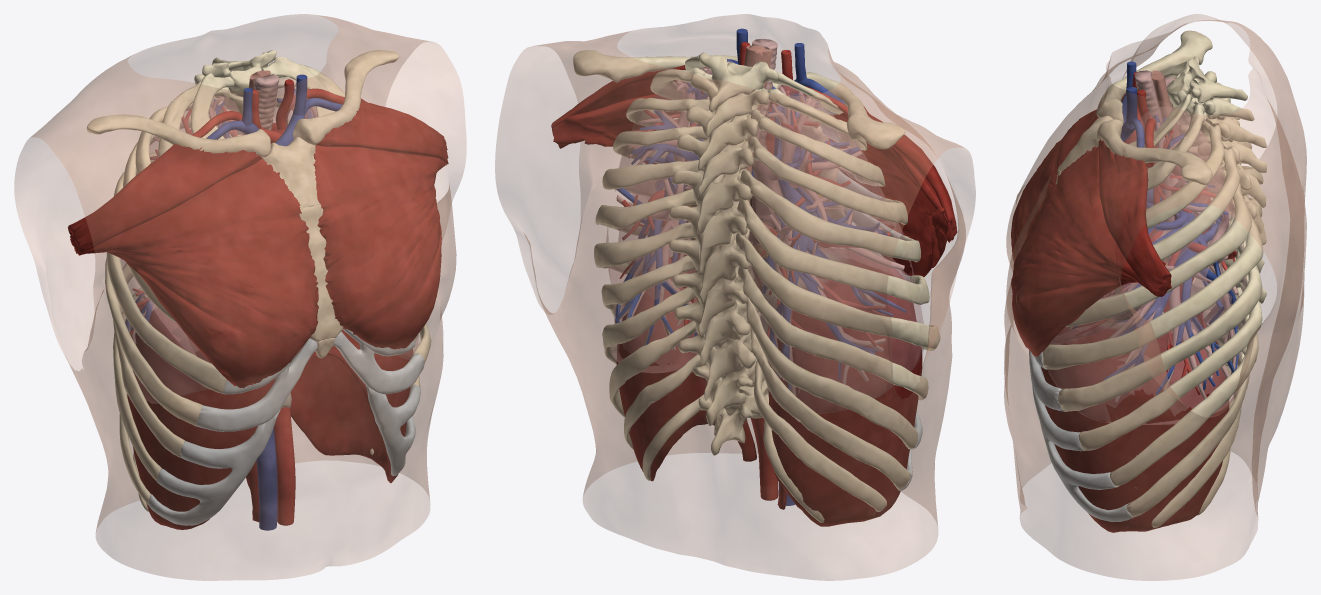
Rendered from cardiotwin_anatomy.glb.
3 renders of one model, left to right at view 1: azimuth 30°, elevation 25°; view 2: azimuth 150°, elevation 25°; view 3: azimuth 270°, elevation 25°, orthographic. The views are drawn at different scales.
Parts seen in each view (by area): view 1: Skin_Torso, Pectoralis_R, Pectoralis_L, Diaphragm, Ribs_R, CostalCartilage, Sternum, Lung_R, Clavicle_R, Clavicle_L, GreatVessel_Aorta, GreatVessel_SVC_BrachiocephalicVeins (+6 smaller); view 2: Skin_Torso, Ribs_R, Spine_Thoracic, Diaphragm, Lung_R, Ribs_L, Lung_L, Pectoralis_R, Trachea_Bronchi, GreatVessel_PulmonaryArtery, Pectoralis_L, Clavicle_L (+8 smaller); view 3: Skin_Torso, Ribs_L, Pectoralis_L, Diaphragm, Lung_L, Spine_Thoracic, CostalCartilage, Trachea_Bronchi, GreatVessel_PulmonaryArtery, Pectoralis_R, Clavicle_L, Clavicle_R (+6 smaller).
Part boxes in pixels (bbox=[...]): Skin_Torso: bbox=[14, 14, 466, 580]; Pectoralis_R: bbox=[67, 144, 318, 387]; Pectoralis_L: bbox=[313, 98, 448, 349]; Diaphragm: bbox=[127, 309, 412, 529]; Ribs_R: bbox=[105, 73, 234, 511]; CostalCartilage: bbox=[148, 329, 424, 525]; Sternum: bbox=[262, 137, 343, 358]; Lung_R: bbox=[119, 95, 244, 403]; Clavicle_R: bbox=[86, 114, 270, 157]; Clavicle_L: bbox=[293, 50, 399, 145]; GreatVessel_Aorta: bbox=[271, 123, 295, 525]; GreatVessel_SVC_BrachiocephalicVeins: bbox=[206, 74, 342, 146]; Skin_Torso: bbox=[495, 14, 975, 580]; Ribs_R: bbox=[735, 72, 940, 522]; Spine_Thoracic: bbox=[668, 52, 779, 455]; Diaphragm: bbox=[616, 248, 922, 526]; Lung_R: bbox=[748, 84, 923, 413]; Ribs_L: bbox=[594, 55, 729, 480]; Lung_L: bbox=[606, 60, 734, 372]; Pectoralis_R: bbox=[829, 106, 957, 276]; Trachea_Bronchi: bbox=[615, 38, 904, 395]; GreatVessel_PulmonaryArtery: bbox=[615, 82, 906, 389]; Pectoralis_L: bbox=[551, 70, 703, 163]; Clavicle_L: bbox=[573, 50, 737, 82]; Skin_Torso: bbox=[1004, 14, 1306, 580]; Ribs_L: bbox=[1042, 90, 1263, 527]; Pectoralis_L: bbox=[1011, 139, 1171, 356]; Diaphragm: bbox=[1041, 312, 1229, 532]; Lung_L: bbox=[1048, 106, 1247, 424]; Spine_Thoracic: bbox=[1166, 56, 1267, 408]; CostalCartilage: bbox=[1029, 350, 1133, 522]; Trachea_Bronchi: bbox=[1068, 70, 1238, 401]; GreatVessel_PulmonaryArtery: bbox=[1072, 108, 1238, 394]; Pectoralis_R: bbox=[1011, 94, 1125, 262]; Clavicle_L: bbox=[1096, 119, 1212, 184]; Clavicle_R: bbox=[1096, 30, 1212, 123].
Size of the model in its own units: 3.83 by 4.17 by 2.6.
Materials: 41 (32 with a texture image).
